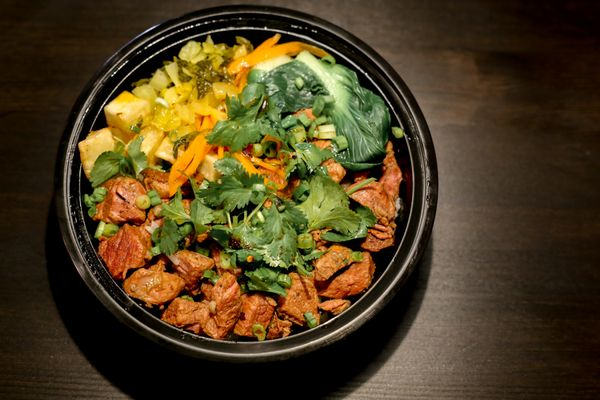curry: (293, 49, 391, 169)
sushi: (54, 20, 439, 362)
